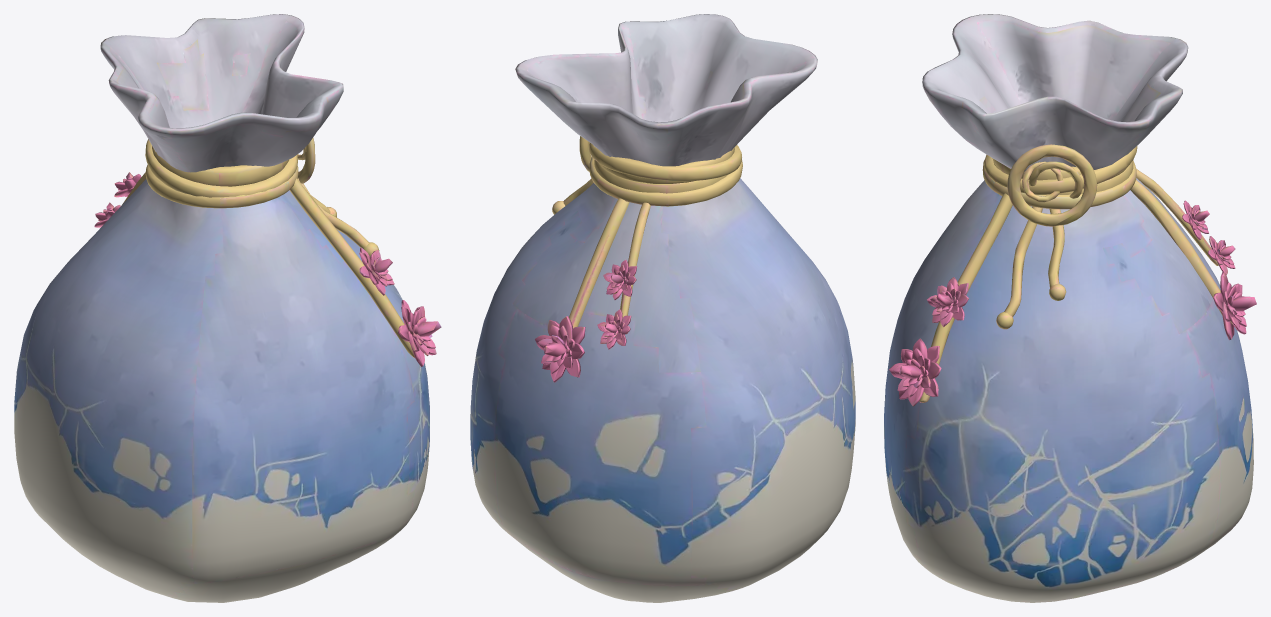
File: bagLowPoly.glb
The picture shows the model from 3 angles, left to right: view 1: azimuth 30°, elevation 25°; view 2: azimuth 150°, elevation 25°; view 3: azimuth 270°, elevation 25°; orthographic projection.
Visible parts, largest first — view 1: polySurface249.001; view 2: polySurface249.001; view 3: polySurface249.001.
Part boxes in pixels (<box>): polySurface249.001: <box>14,14,441,602</box>; polySurface249.001: <box>470,14,855,602</box>; polySurface249.001: <box>884,14,1256,602</box>.
Size of the model in its own units: 0.7827 by 1.12 by 0.7405.
Materials: 1 (1 with a texture image).
